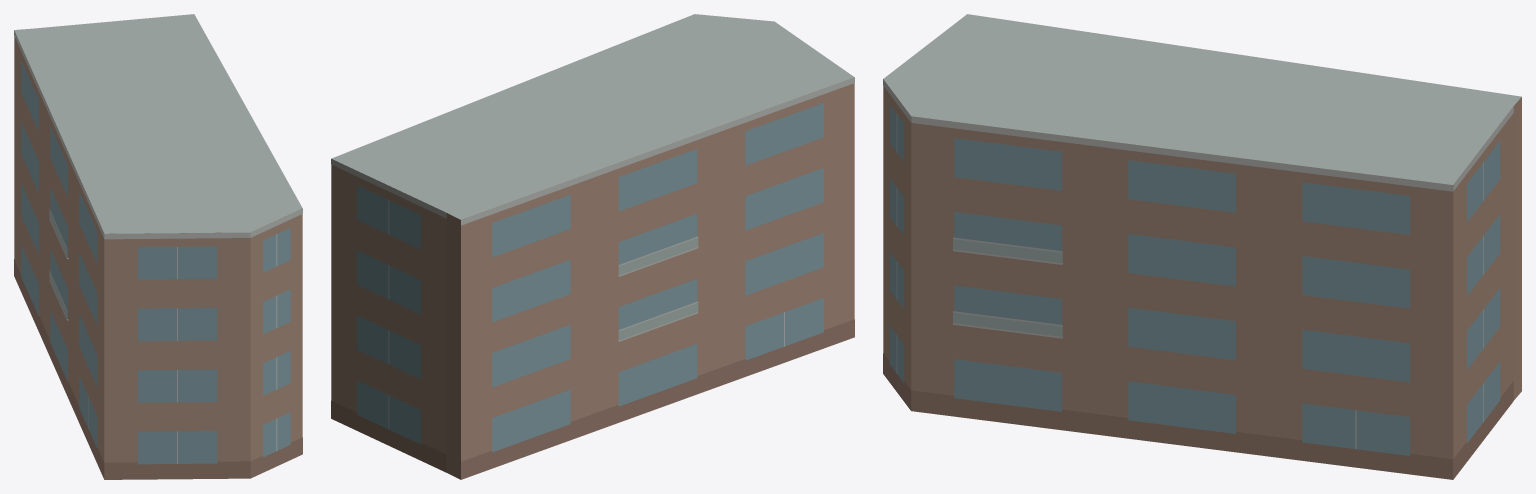
File: survey-upis-32484397.glb
3 views of the same model, side by side, from view 1: azimuth 30°, elevation 25°; view 2: azimuth 150°, elevation 25°; view 3: azimuth 270°, elevation 25° (orthographic). The views are drawn at different scales.
Visible parts, largest first — view 1: survey-upis-32484397.tmp; view 2: survey-upis-32484397.tmp; view 3: survey-upis-32484397.tmp.
Part boxes in pixels (bbox=[...]): survey-upis-32484397.tmp: bbox=[14, 14, 302, 479]; survey-upis-32484397.tmp: bbox=[331, 14, 854, 479]; survey-upis-32484397.tmp: bbox=[883, 14, 1521, 479].
Bounding box in the file's own units: 13.58 × 10.9 × 21.41.
